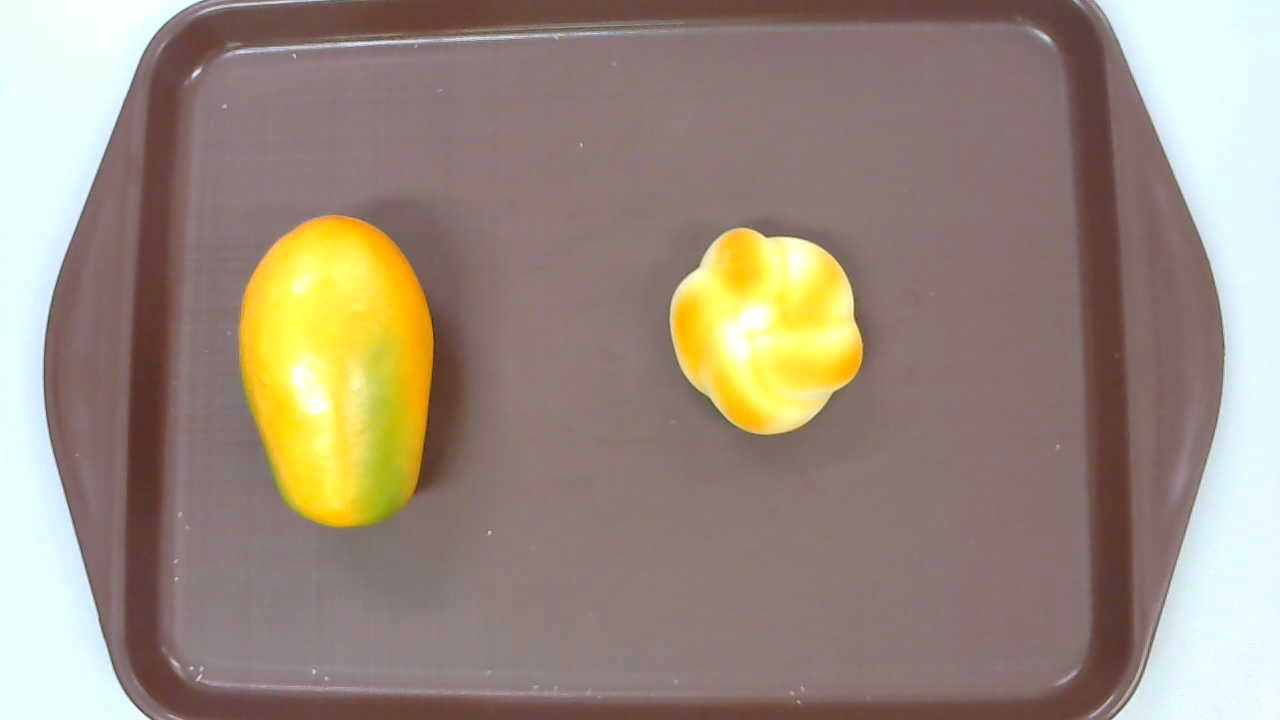papaya: (239, 212, 434, 528)
twist bread: (669, 227, 863, 435)
